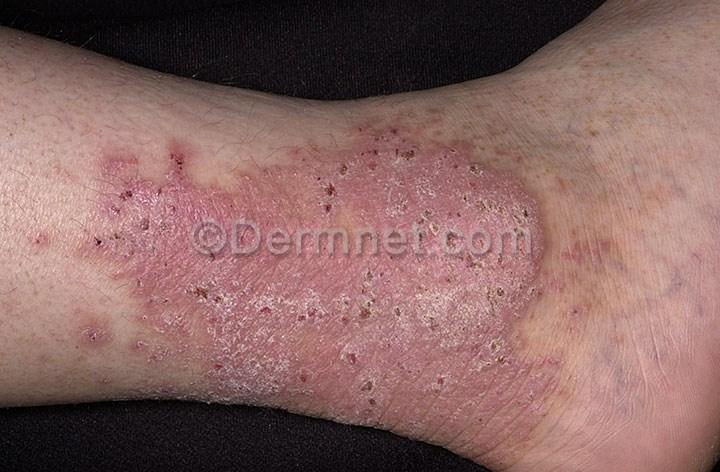Eczema: (405, 226, 530, 358), (459, 109, 562, 239), (505, 232, 610, 358), (359, 115, 469, 232), (86, 138, 197, 253), (103, 245, 216, 346), (224, 321, 352, 409), (5, 174, 97, 292), (347, 329, 445, 439), (209, 249, 316, 343), (303, 225, 399, 325), (275, 140, 366, 245), (522, 148, 613, 253), (515, 353, 604, 454), (105, 333, 234, 401), (189, 172, 283, 259), (444, 351, 520, 457), (539, 36, 609, 100), (608, 60, 666, 123), (567, 92, 625, 152), (62, 313, 116, 367), (648, 14, 703, 61), (496, 77, 543, 111)
